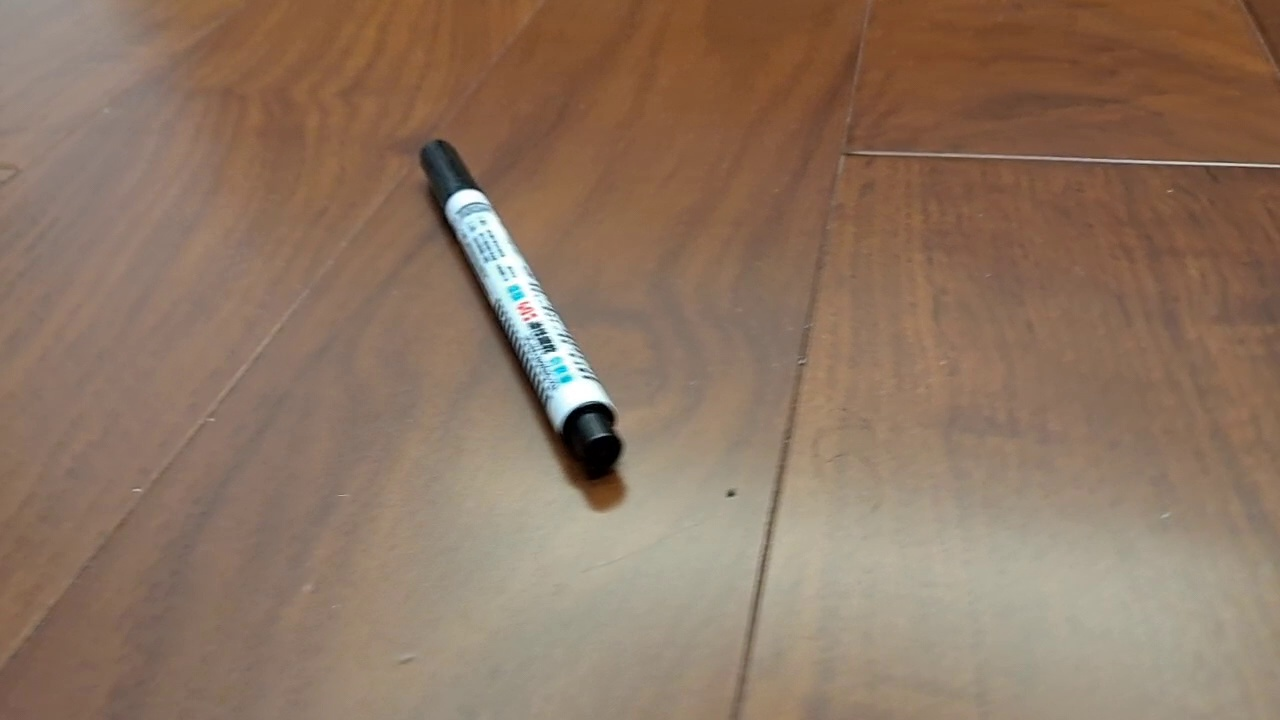pen: (418, 138, 625, 483)
